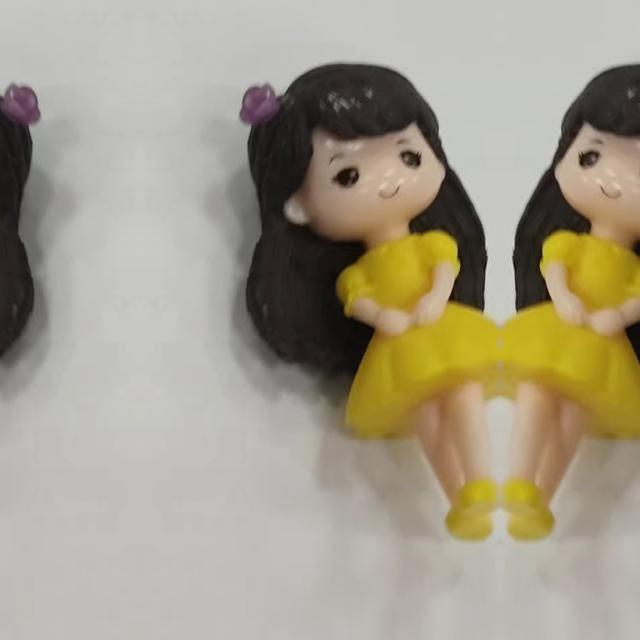woman dress: (214, 207, 500, 551), (500, 207, 640, 551), (0, 207, 66, 551)
woman head: (221, 54, 487, 266), (513, 54, 640, 266), (0, 54, 59, 266)
